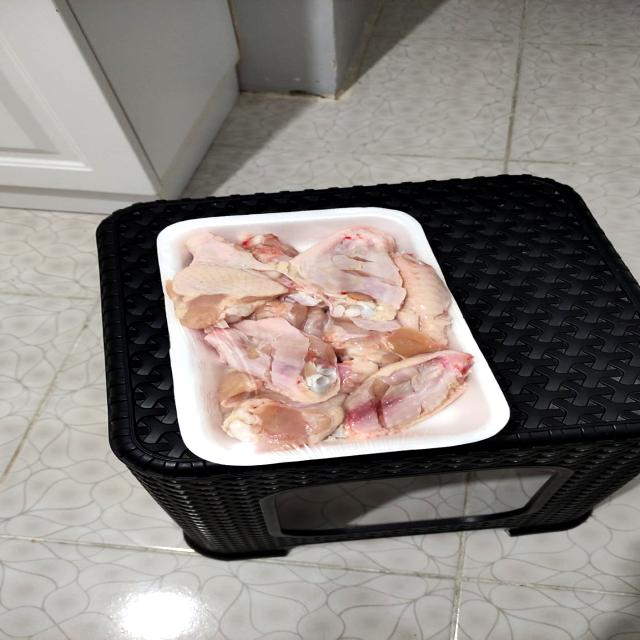chicken: (161, 201, 501, 460)
